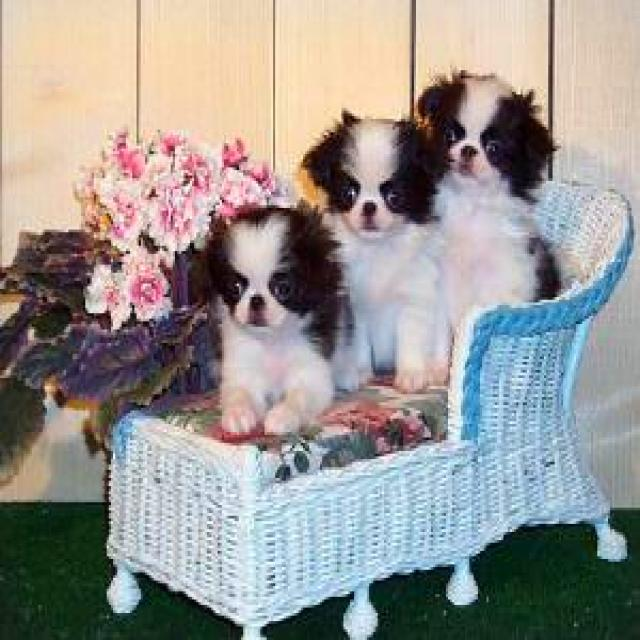husky: (412, 73, 568, 391), (298, 114, 442, 376), (212, 202, 344, 434)
